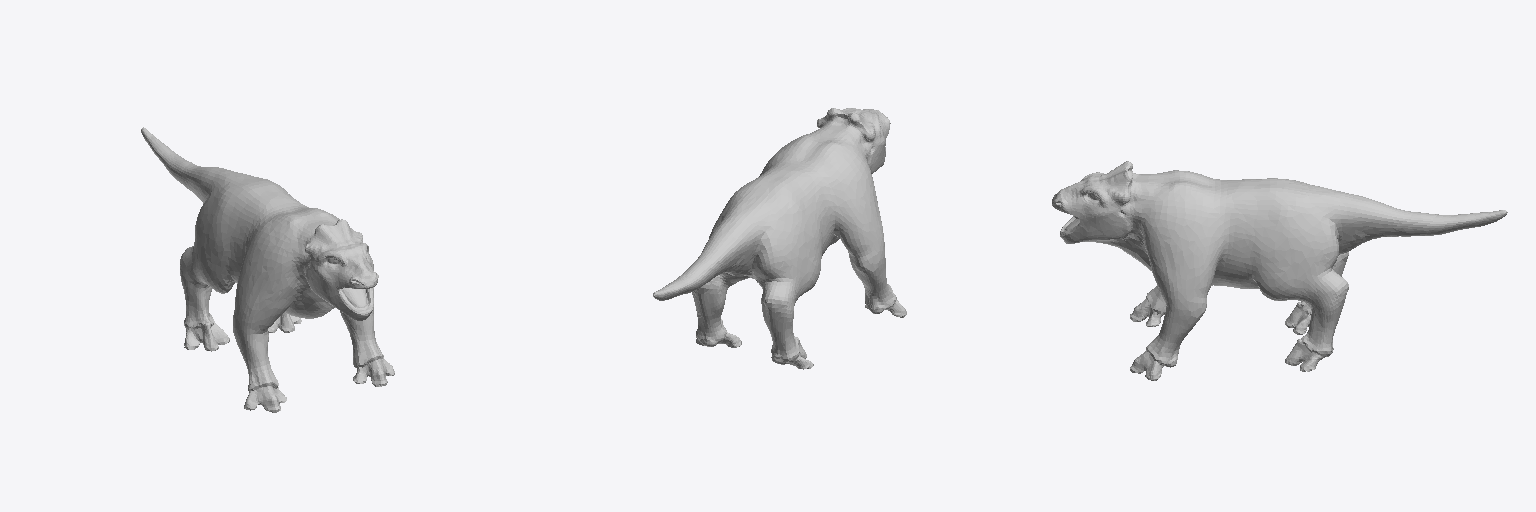
The model's file is animal-decimated_to_9761_vertices.obj.
The picture shows the model from 3 angles: view 1: azimuth 30°, elevation 25°; view 2: azimuth 150°, elevation 25°; view 3: azimuth 270°, elevation 25°; orthographic projection.
Size of the model in its own units: 5.01 by 5.75 by 13.26.